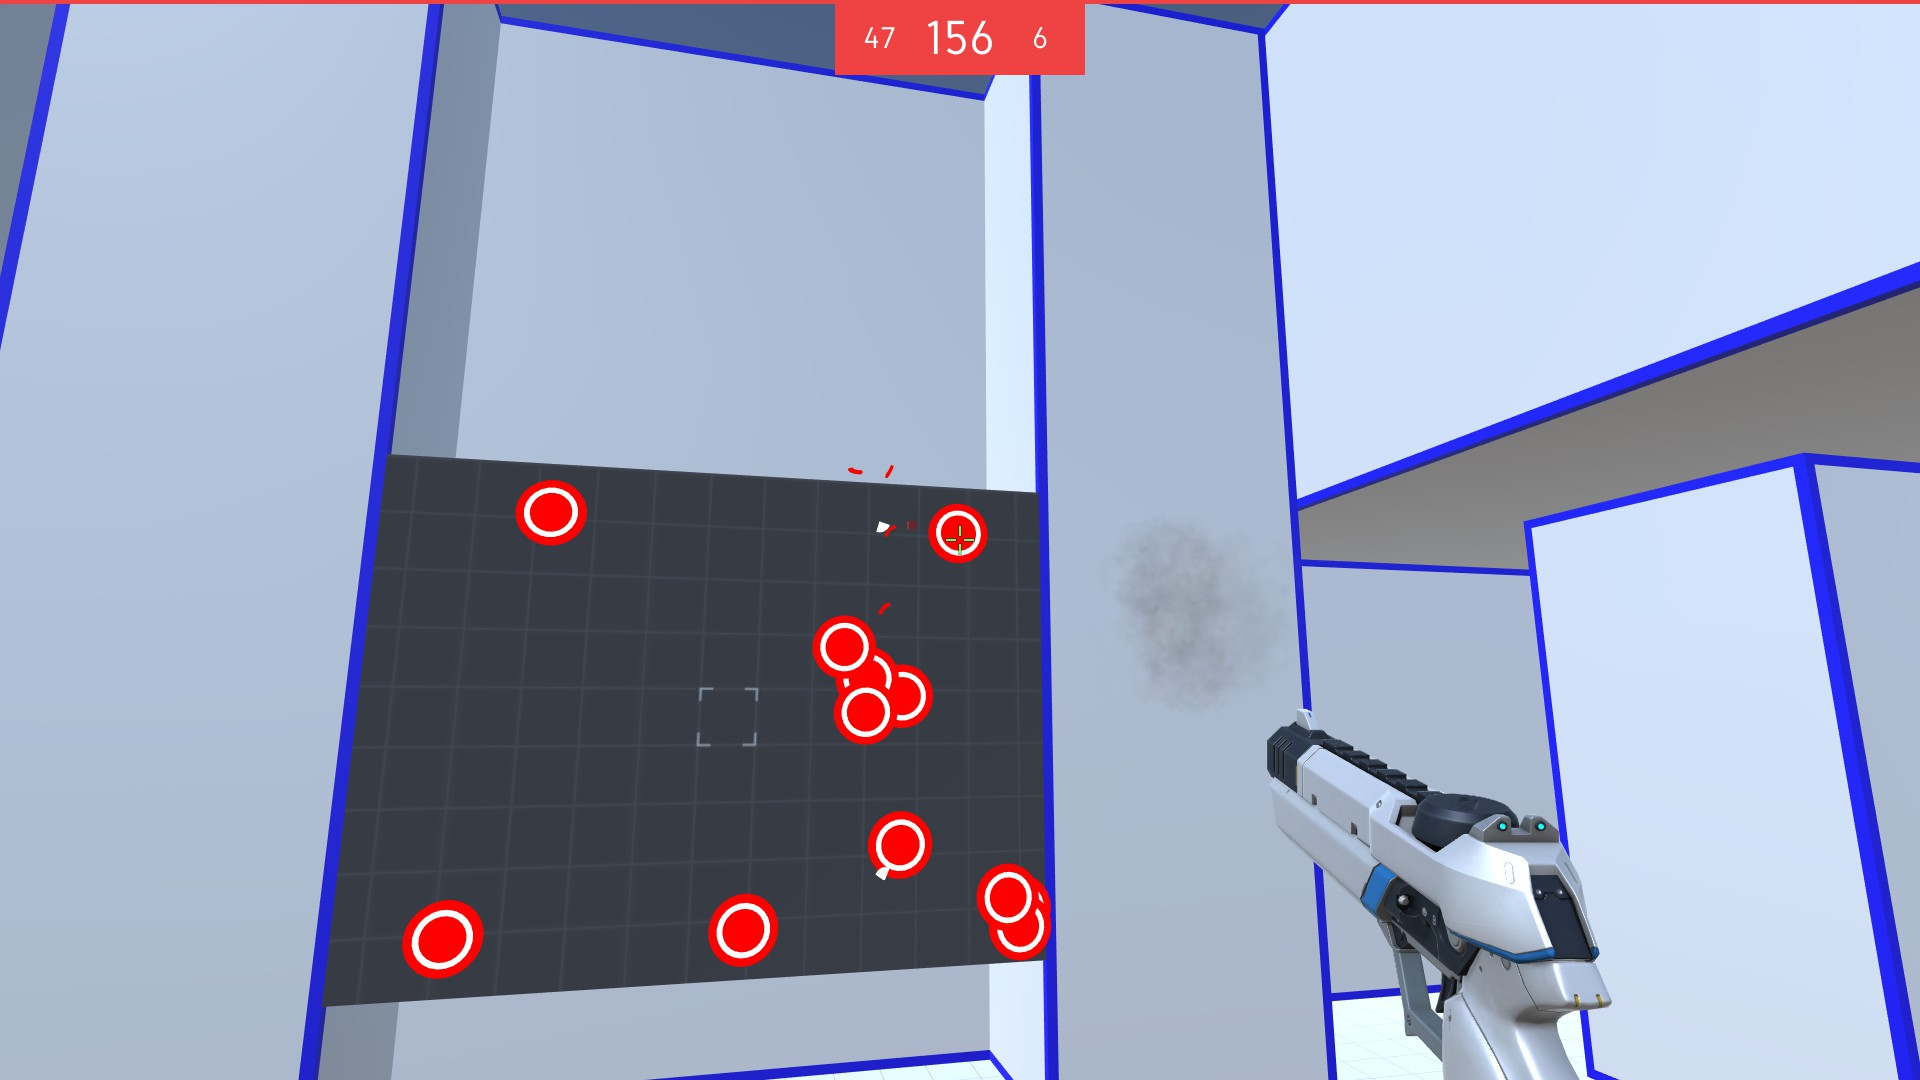target: (396, 894, 489, 978), (510, 476, 589, 547), (865, 806, 934, 884), (712, 894, 777, 967), (972, 861, 1036, 928), (812, 615, 876, 678), (831, 683, 895, 745), (928, 504, 988, 564), (880, 665, 936, 728), (989, 905, 1054, 959)
